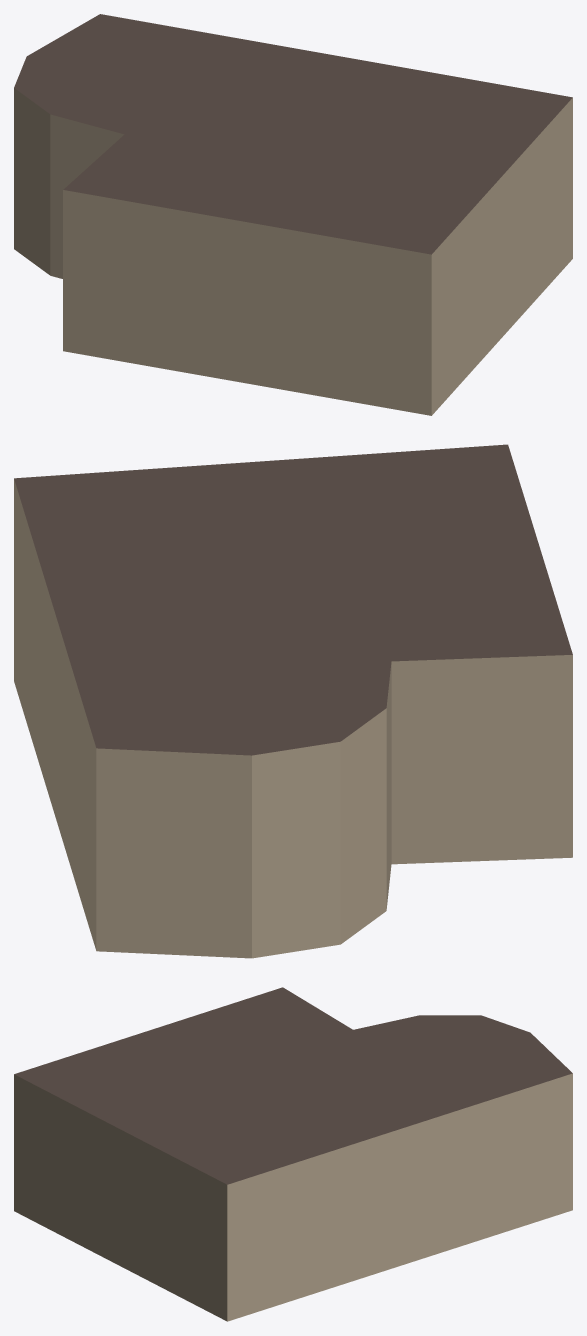
3 renders of one model, top to bottom at view 1: azimuth 30°, elevation 25°; view 2: azimuth 150°, elevation 25°; view 3: azimuth 270°, elevation 25°, orthographic. The views are drawn at different scales.
Parts seen in each view (by area): view 1: HP-w387381261; view 2: HP-w387381261; view 3: HP-w387381261.
Boxes of the visible parts, box(x1,y1,x2,y2) form: HP-w387381261: box(14, 14, 572, 415); HP-w387381261: box(14, 444, 572, 958); HP-w387381261: box(14, 987, 572, 1321).
Bounding box in the file's own units: 27.85 × 9 × 33.31.
